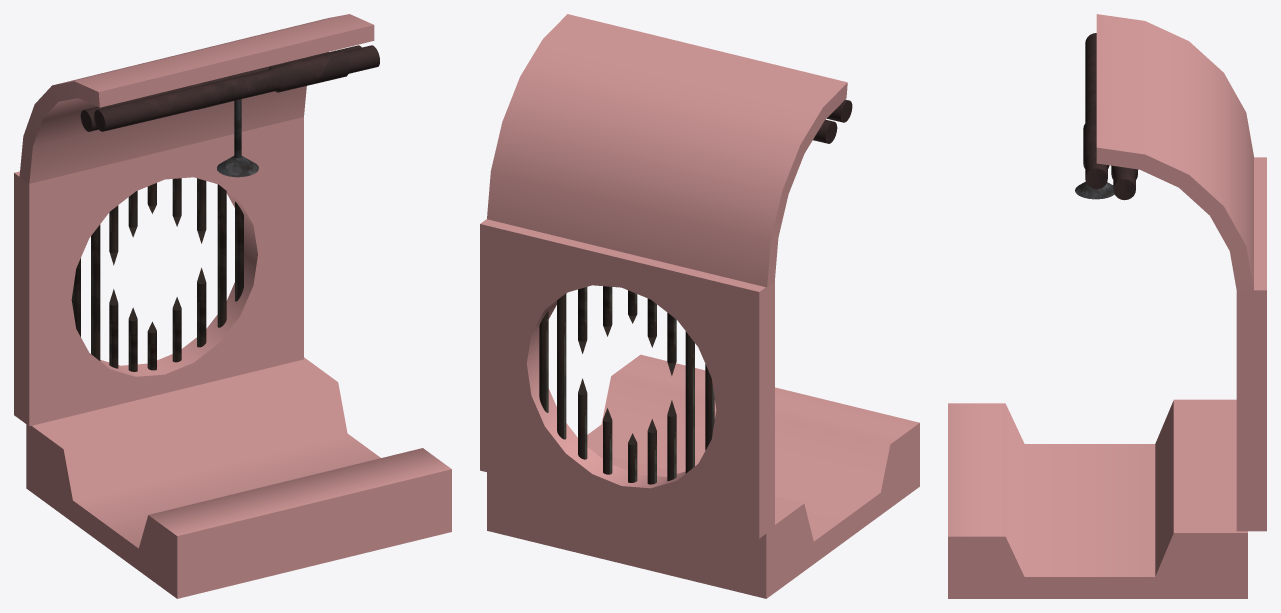
File: room9Sewer.fbx
3 renders of one model, left to right at view 1: azimuth 30°, elevation 25°; view 2: azimuth 150°, elevation 25°; view 3: azimuth 270°, elevation 25°, orthographic. The views are drawn at different scales.
Parts seen in each view (by area): view 1: room9_walls, room9_metal; view 2: room9_walls, room9_metal; view 3: room9_walls, room9_metal.
Boxes of the visible parts, x1,y1,x2,y2 form: room9_walls: (14, 14, 451, 598); room9_metal: (71, 45, 379, 371); room9_walls: (480, 14, 919, 598); room9_metal: (539, 99, 852, 484); room9_walls: (948, 14, 1266, 598); room9_metal: (1075, 33, 1138, 200).
Bounding box in the file's own units: 2.03 × 3.15 × 2.02.
